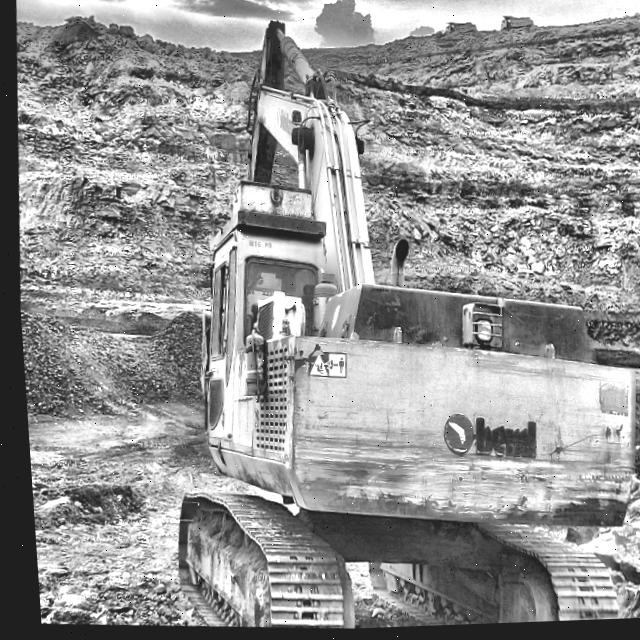excavator: (168, 25, 632, 631)
